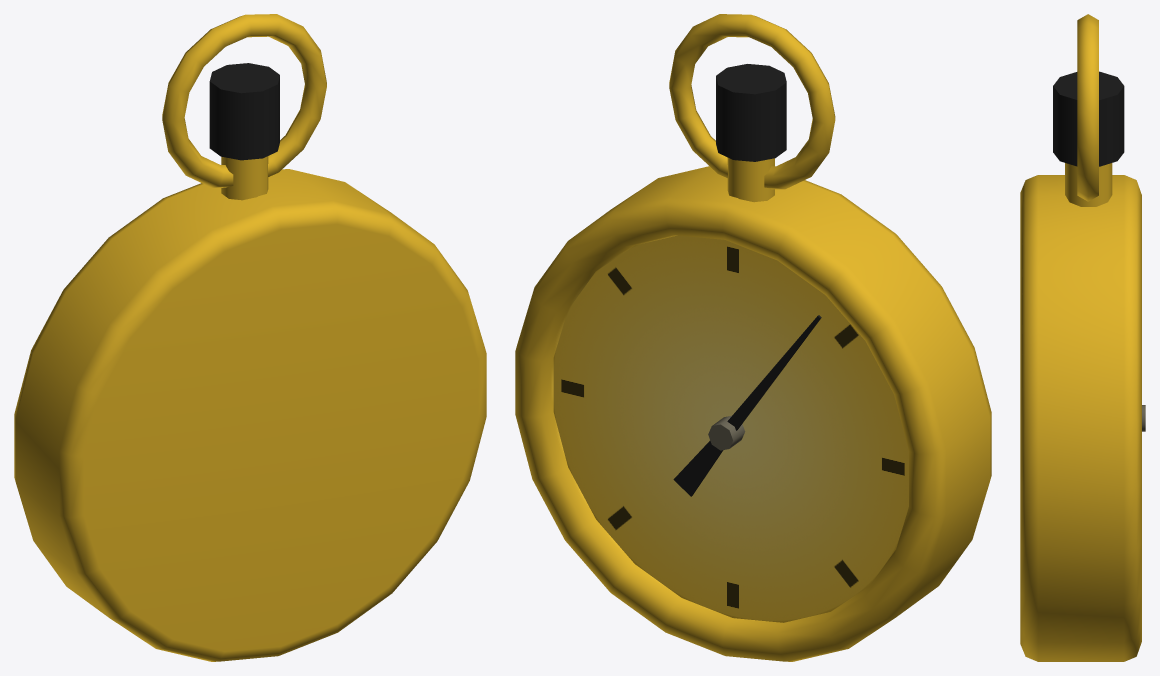
The model's file is Watch.fbx.
3 views of the same model, side by side, from view 1: azimuth 30°, elevation 25°; view 2: azimuth 150°, elevation 25°; view 3: azimuth 270°, elevation 25° (orthographic).
Visible parts, largest first — view 1: Watch; view 2: Watch; view 3: Watch.
Boxes of the visible parts, <box> form: Watch: <box>14,14,486,661</box>; Watch: <box>515,14,991,661</box>; Watch: <box>1020,14,1145,661</box>.
Size of the model in its own units: 7.34 by 10.27 by 1.89.
